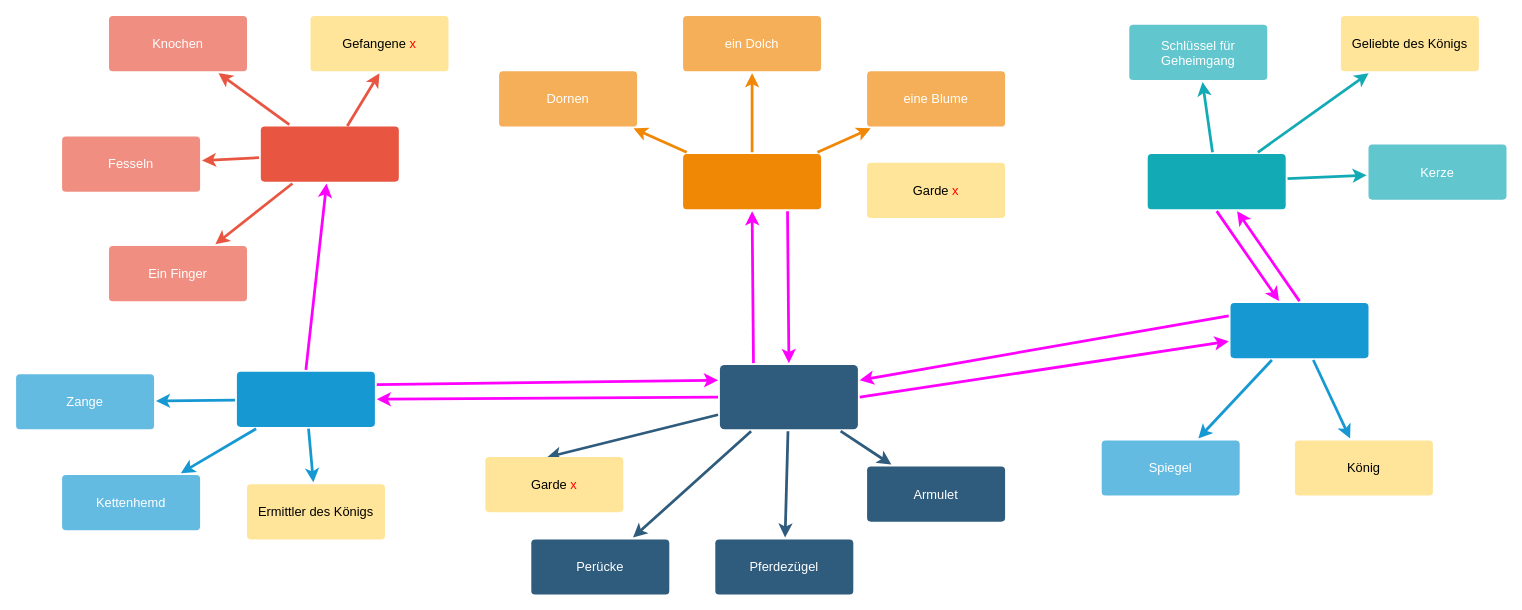
Some shapes in this 1522 by 610 pixel diagram are drawn without their labels. Here are the shapes that lost their labels. From the top down, the centre of each, then its label:
the point at 329,153: Gefängnis / Bastille
the point at 752,181: Schlossgarten
the point at 1216,181: Ankleidezimmer König
the point at 1299,330: Spiegelsaal
the point at 305,398: Geheimgang
the point at 788,397: Eingang des Schlosses
